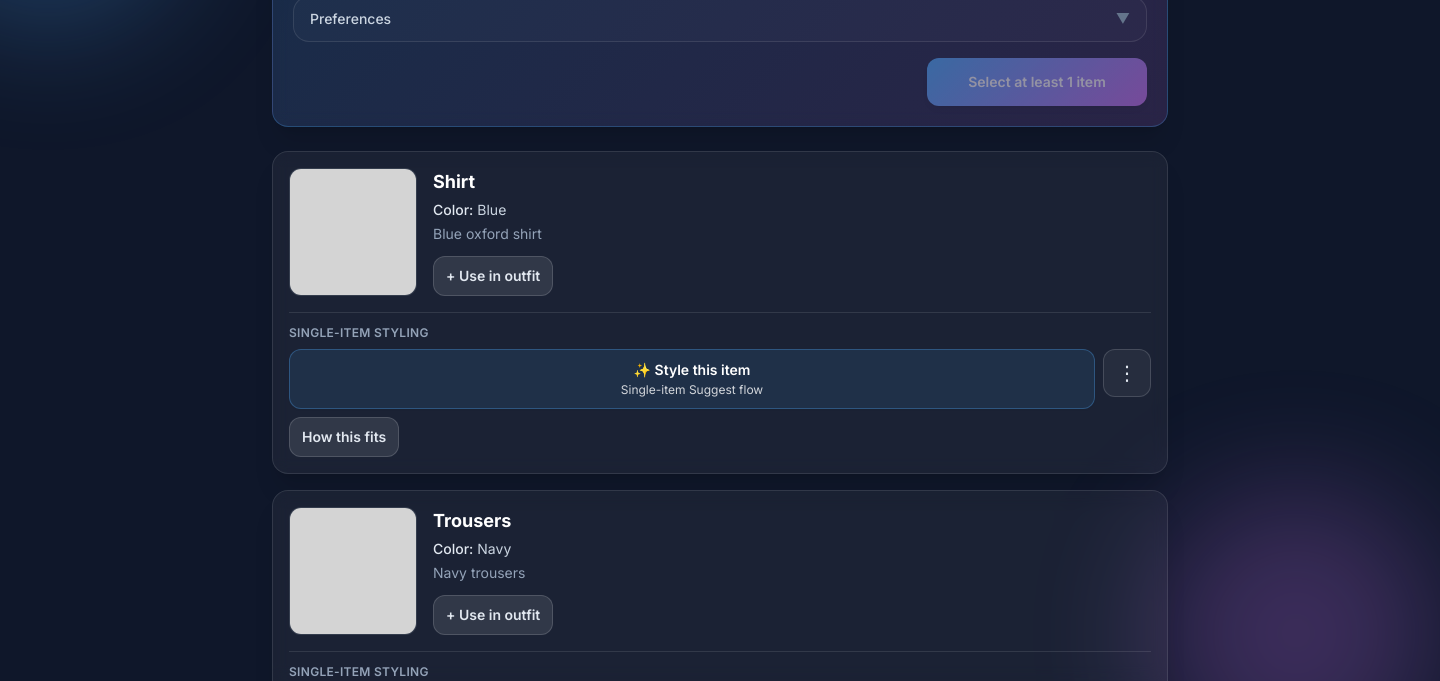
Scenario: Wardrobe multi-select complete outfit integration › sends selected_wardrobe_item_ids for two unique-slot selections and shows the existing result UI
The width and height of the screenshot is (1440, 681).
(page scrolled)
Check: the text "Blue oxford shirt" is shown, box [433,225,542,242]
Check: the text "Navy trousers" is shown, box [433,564,525,581]
Click the button with aria-label "Use shirt in outfit" at (493, 276), box [433,256,553,296]
(page scrolled)
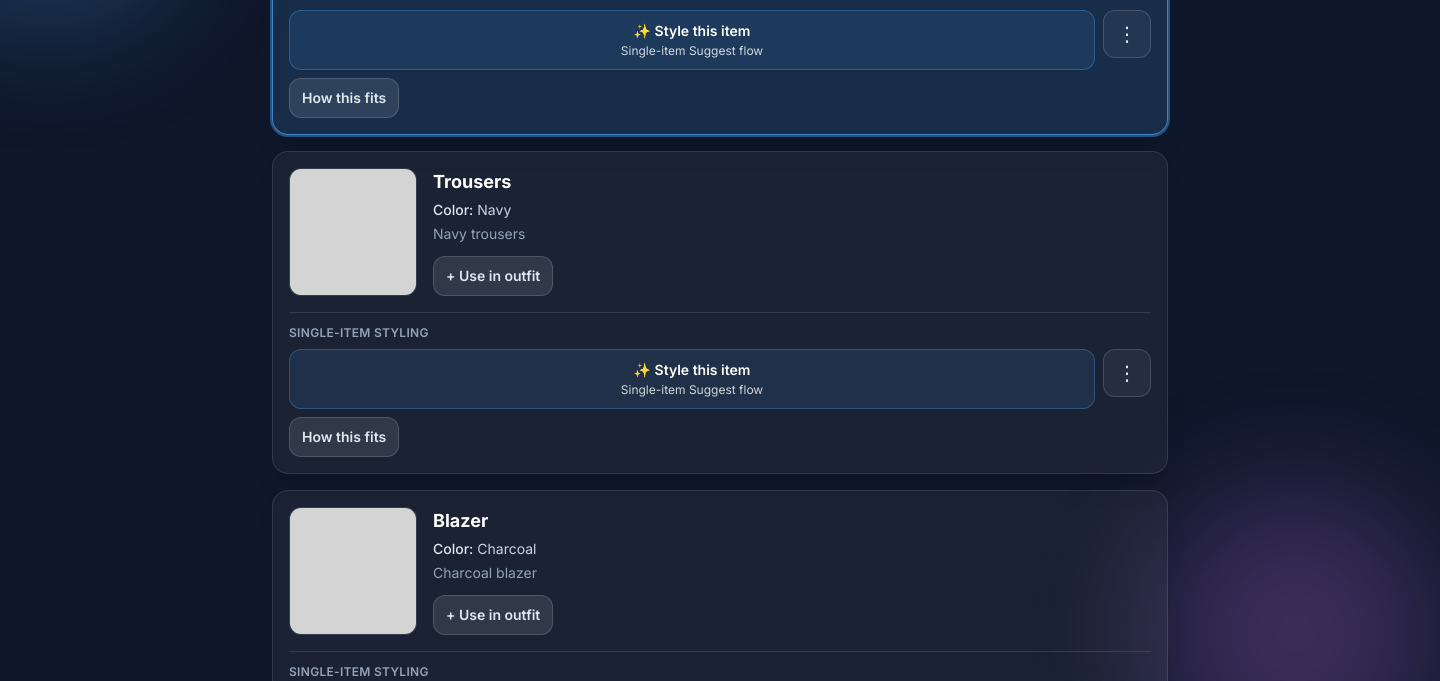
Click the button with aria-label "Use trouser in outfit" at (493, 276), box [433,256,553,296]
(page scrolled)
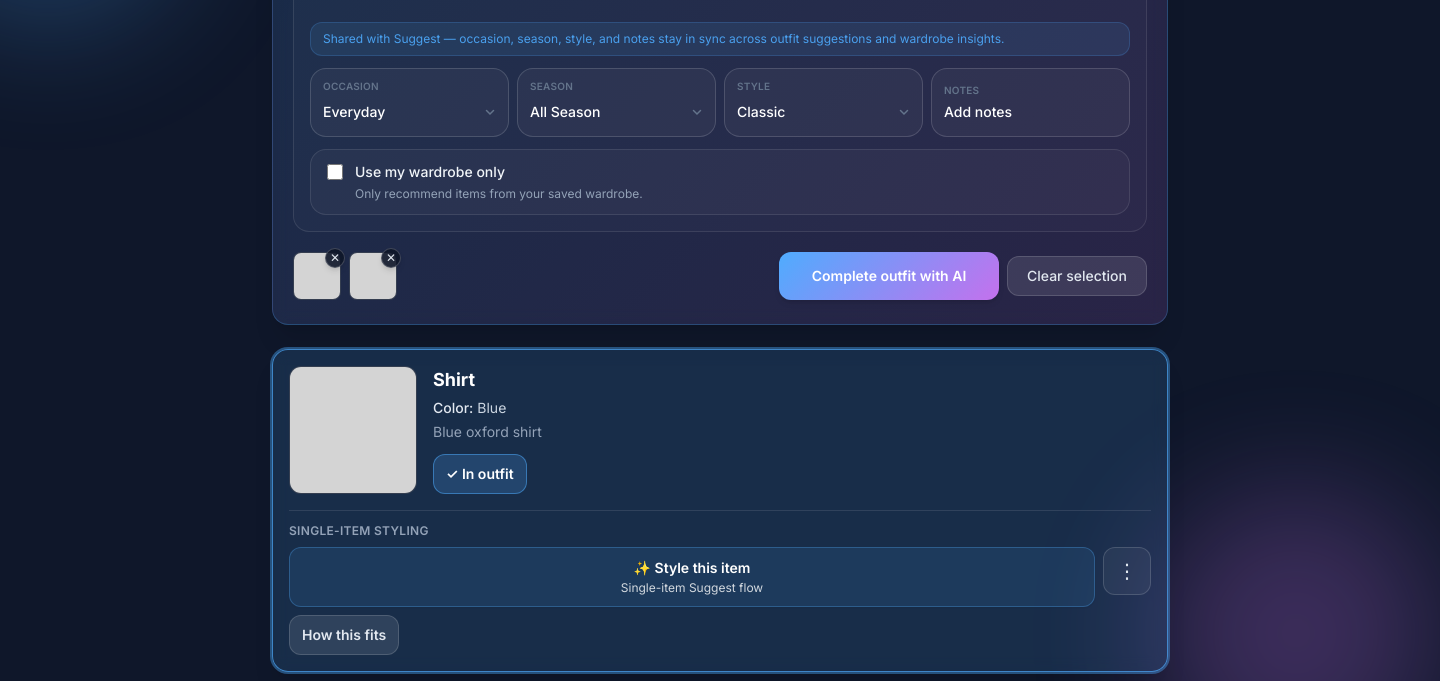
Click the button "Complete outfit with AI" at (889, 276), box [779,252,999,300]
(page scrolled)
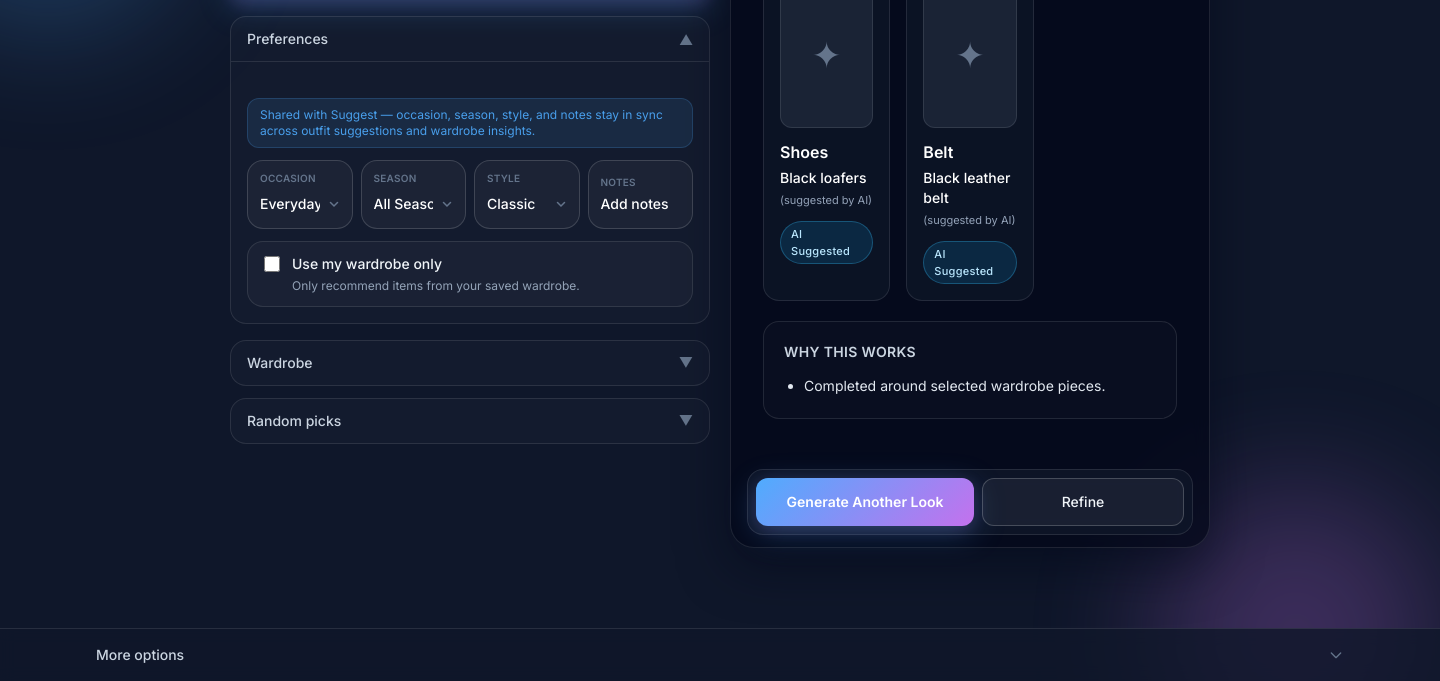
Check: the text "Black loafers" is shown, box [780,168,873,188]
